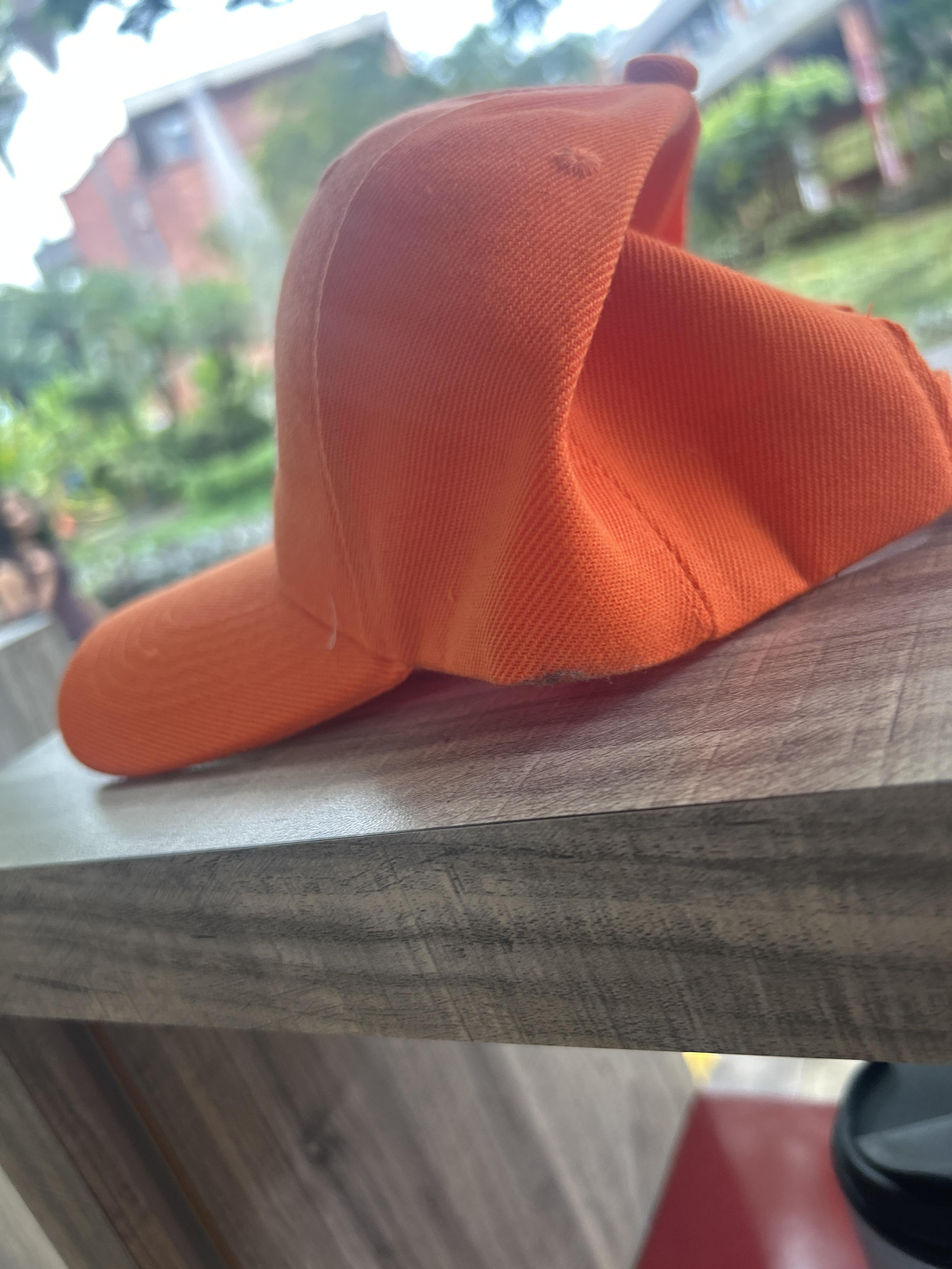gorra: (58, 55, 952, 776)
